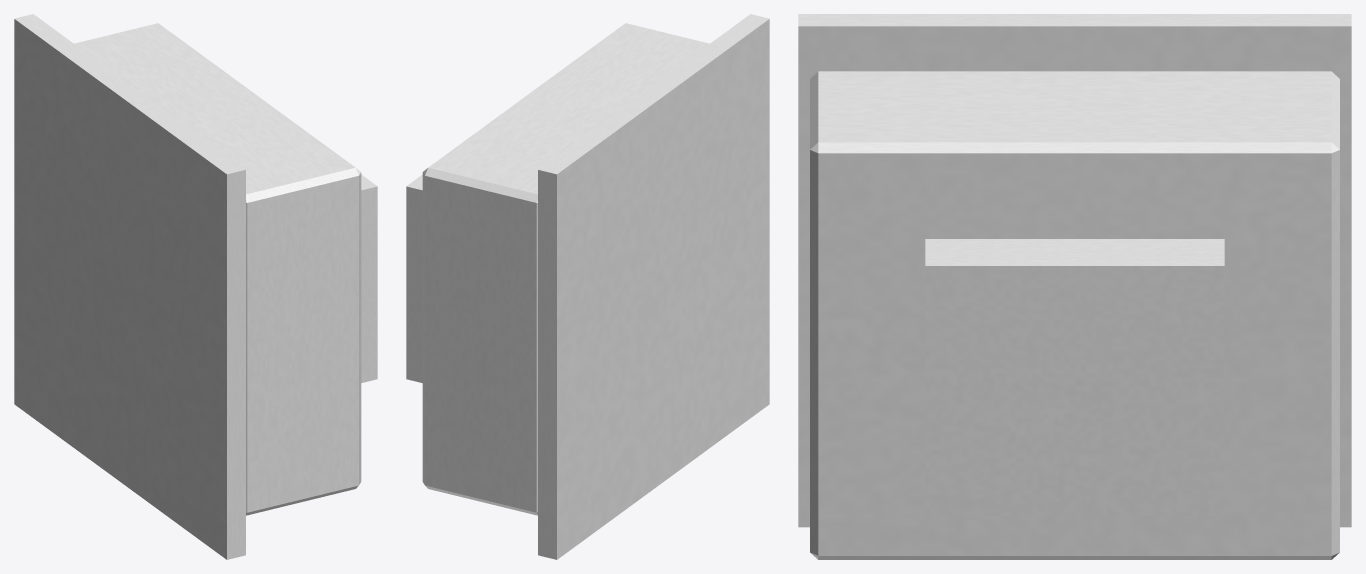
File: firealarm_strobe.obj
The picture shows the model from 3 angles, left to right: view 1: azimuth 30°, elevation 25°; view 2: azimuth 150°, elevation 25°; view 3: azimuth 270°, elevation 25°; orthographic projection. The views are drawn at different scales.
Visible parts, largest first — view 1: Base, Case, Flash; view 2: Base, Case, Flash; view 3: Case, Flash, Base.
Boxes of the visible parts, x1=… form: Base: x1=14, y1=14, x2=245, y2=559; Case: x1=74, y1=23, x2=361, y2=515; Flash: x1=361, y1=174, x2=377, y2=382; Base: x1=538, y1=14, x2=769, y2=559; Case: x1=422, y1=23, x2=709, y2=515; Flash: x1=406, y1=174, x2=422, y2=382; Case: x1=810, y1=71, x2=1339, y2=559; Flash: x1=925, y1=239, x2=1224, y2=516; Base: x1=798, y1=14, x2=1351, y2=527.
Bounding box in the file's own units: 0.26 × 0.48 × 0.48.
